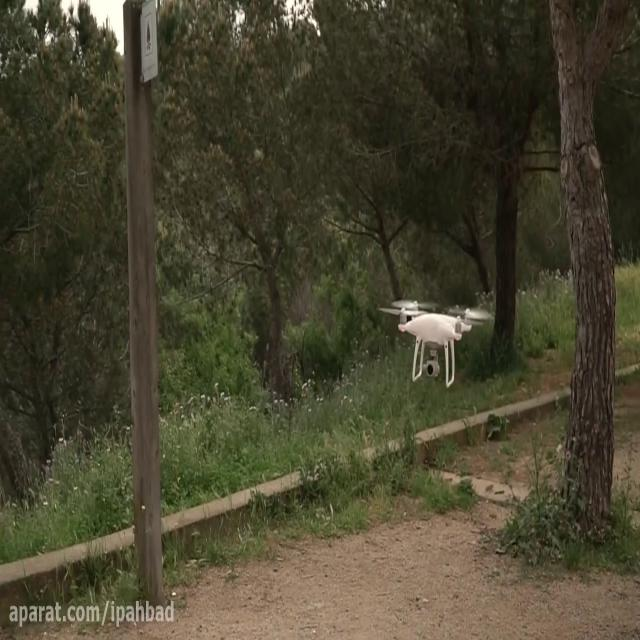drone: (376, 297, 492, 388)
